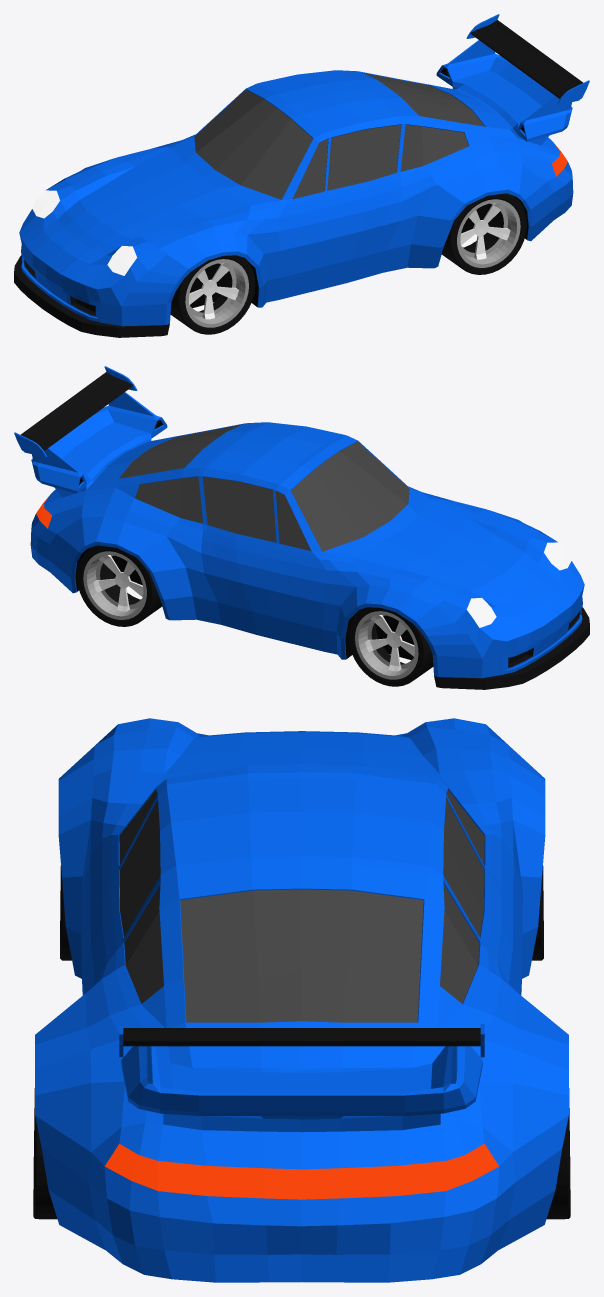
The model's file is car.glb.
The picture shows the model from 3 angles, top to bottom: view 1: azimuth 30°, elevation 25°; view 2: azimuth 150°, elevation 25°; view 3: azimuth 270°, elevation 25°; orthographic projection. The views are drawn at different scales.
Visible parts, largest first — view 1: Plane.014, Circle.021, Circle.022; view 2: Plane.014, Circle.021, Circle.022; view 3: Plane.014, Circle.021, Circle.022.
Boxes of the visible parts, x1,y1,x2,y2 form: Plane.014: (14, 14, 589, 337); Circle.021: (441, 193, 526, 274); Circle.022: (170, 255, 255, 334); Plane.014: (14, 366, 589, 689); Circle.021: (77, 545, 162, 626); Circle.022: (348, 607, 433, 686); Plane.014: (35, 718, 568, 1282); Circle.021: (33, 1088, 570, 1219); Circle.022: (60, 866, 543, 960).
Bounding box in the file's own units: 2.94 × 0.8619 × 1.36.
